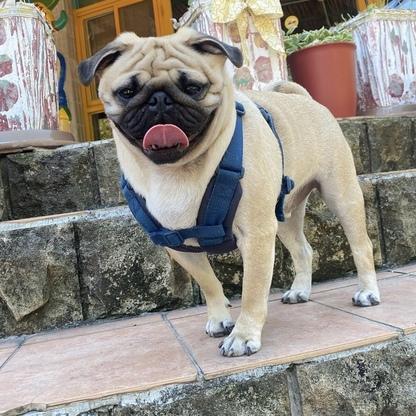Pug: (73, 23, 382, 359)
